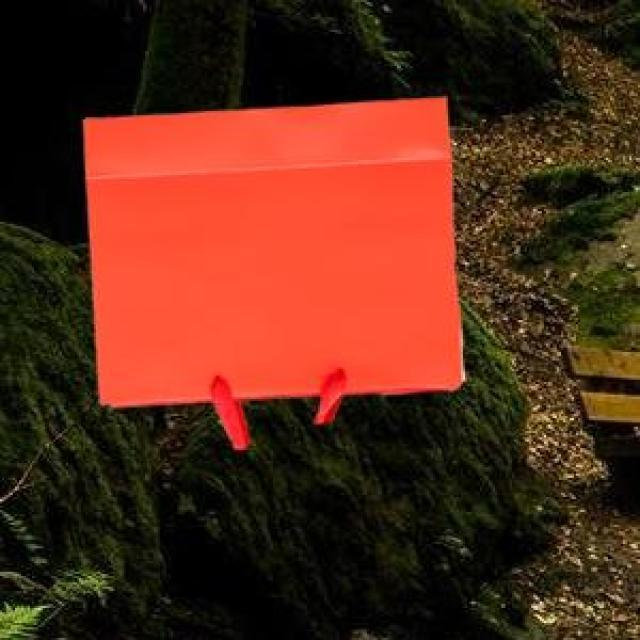paper: (79, 94, 461, 446)
